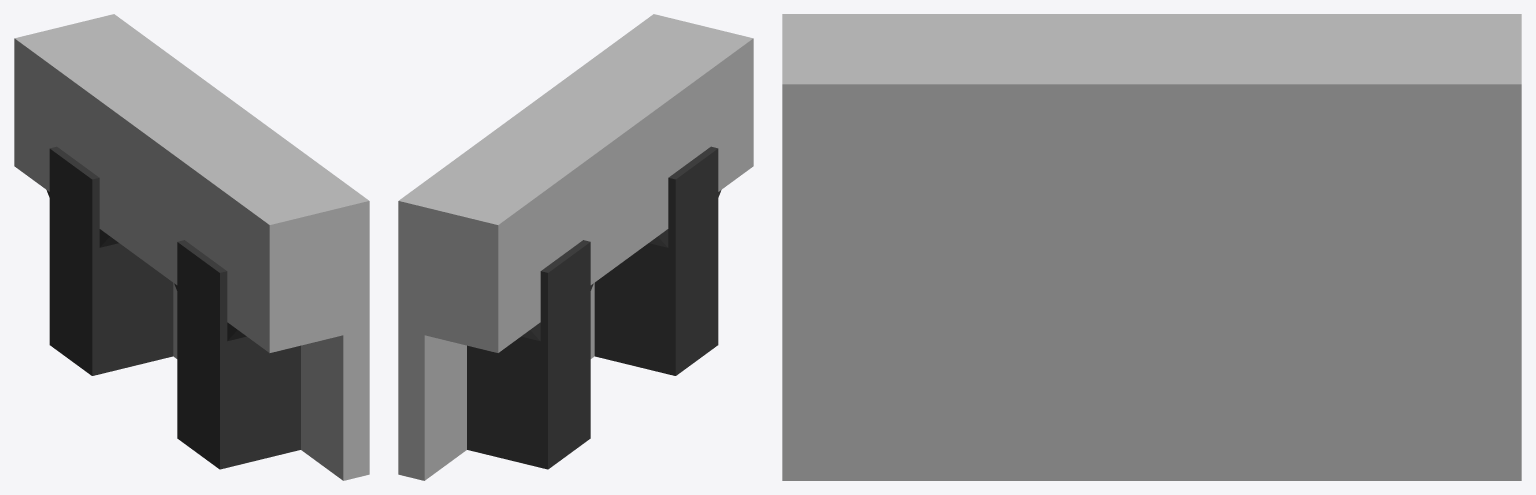
The model's file is LightStoneWallSmallMetalSupported1.fbx.
3 renders of one model, left to right at view 1: azimuth 30°, elevation 25°; view 2: azimuth 150°, elevation 25°; view 3: azimuth 270°, elevation 25°, orthographic. The views are drawn at different scales.
Parts seen in each view (by area): view 1: LightStoneWallSmallMetalSupported1; view 2: LightStoneWallSmallMetalSupported1; view 3: LightStoneWallSmallMetalSupported1.
Boxes of the visible parts, x1,y1,x2,y2 form: LightStoneWallSmallMetalSupported1: [14, 14, 369, 480]; LightStoneWallSmallMetalSupported1: [398, 14, 753, 480]; LightStoneWallSmallMetalSupported1: [782, 14, 1521, 480].
Bounding box in the file's own units: 291 × 710 × 1200.
2 materials, 2 textured.
